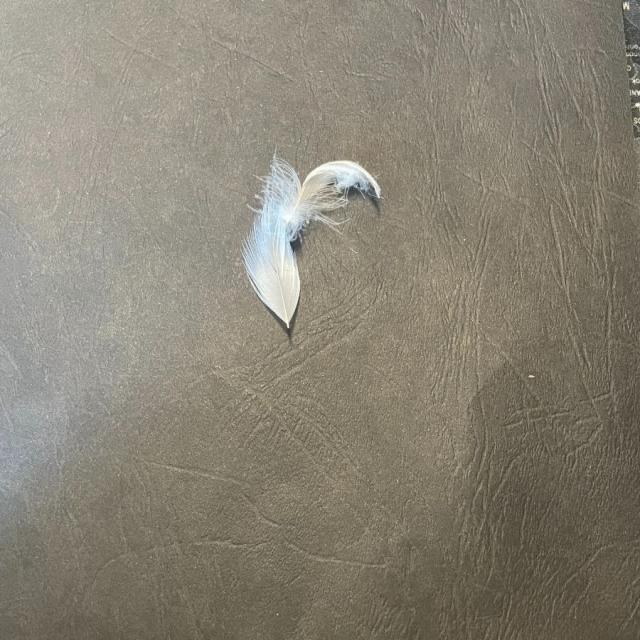feather: (261, 146, 382, 240), (240, 210, 299, 327)
